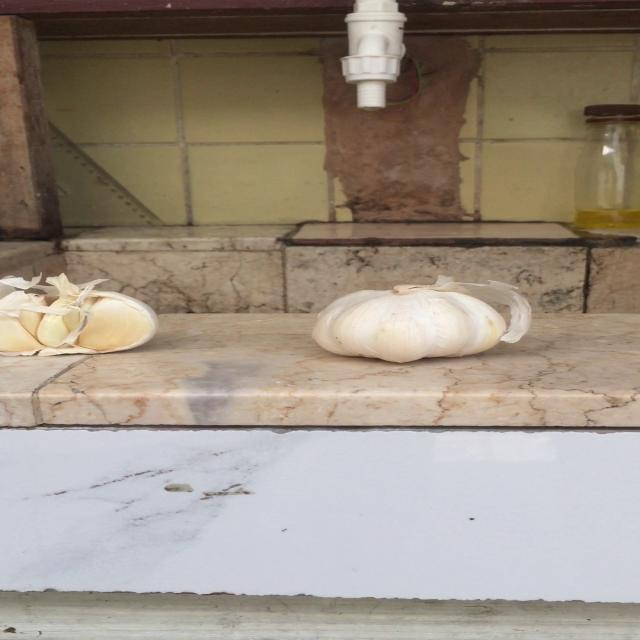garlic: (310, 274, 534, 364), (0, 273, 166, 360)
